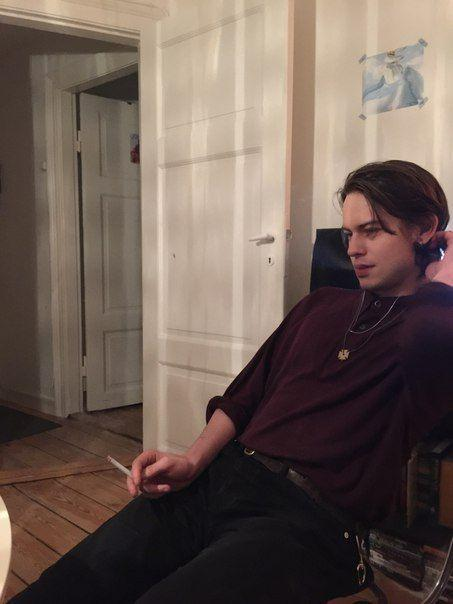cigarette: (106, 455, 133, 479)
